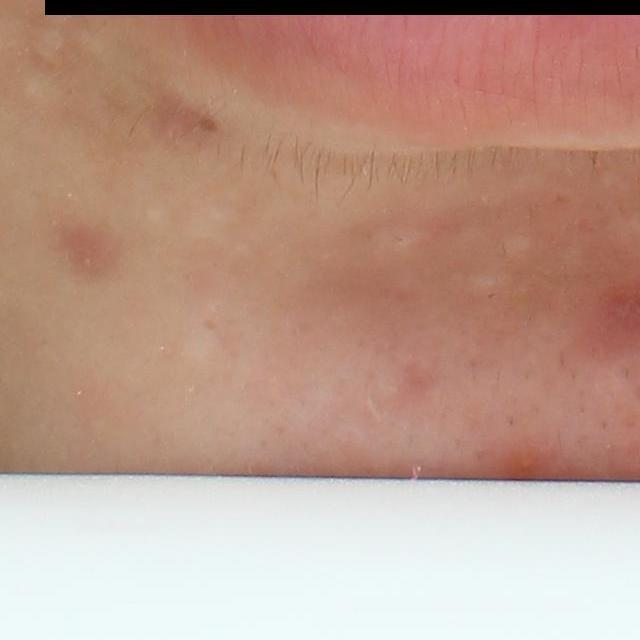hypertrophic_scar: (358, 213, 430, 254), (21, 69, 68, 119), (69, 24, 123, 65), (452, 266, 515, 293), (487, 230, 539, 262)
